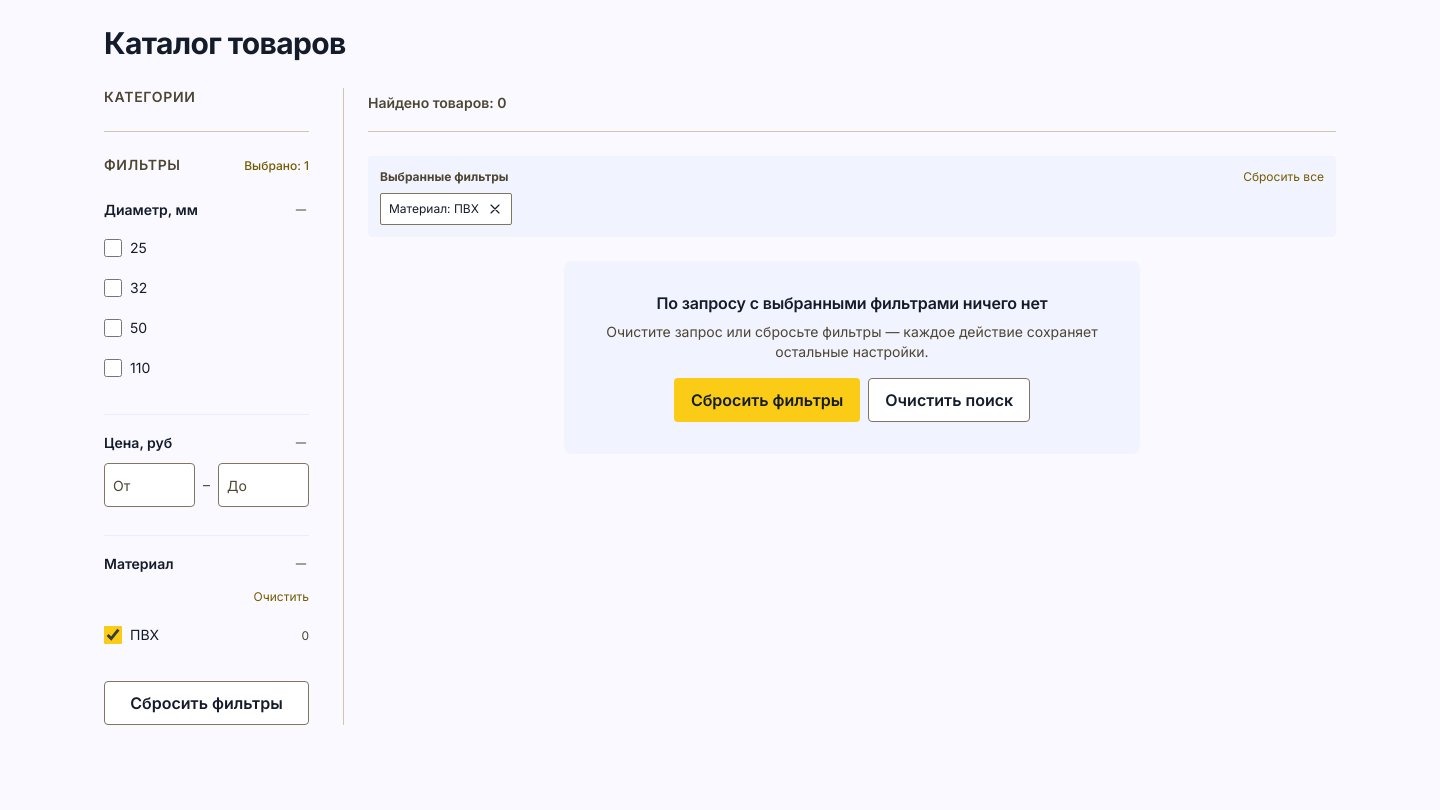
Test case: CatalogPage integration › recovers from a combined empty state without silently clearing both inputs
Expected: the heading "По запросу с выбранными фильтрами ничего нет" is shown, [656,293,1048,313]
Click the button "Сбросить фильтры" below "Выбранные фильтры".
click(767, 400)  # box [674,378,860,422]
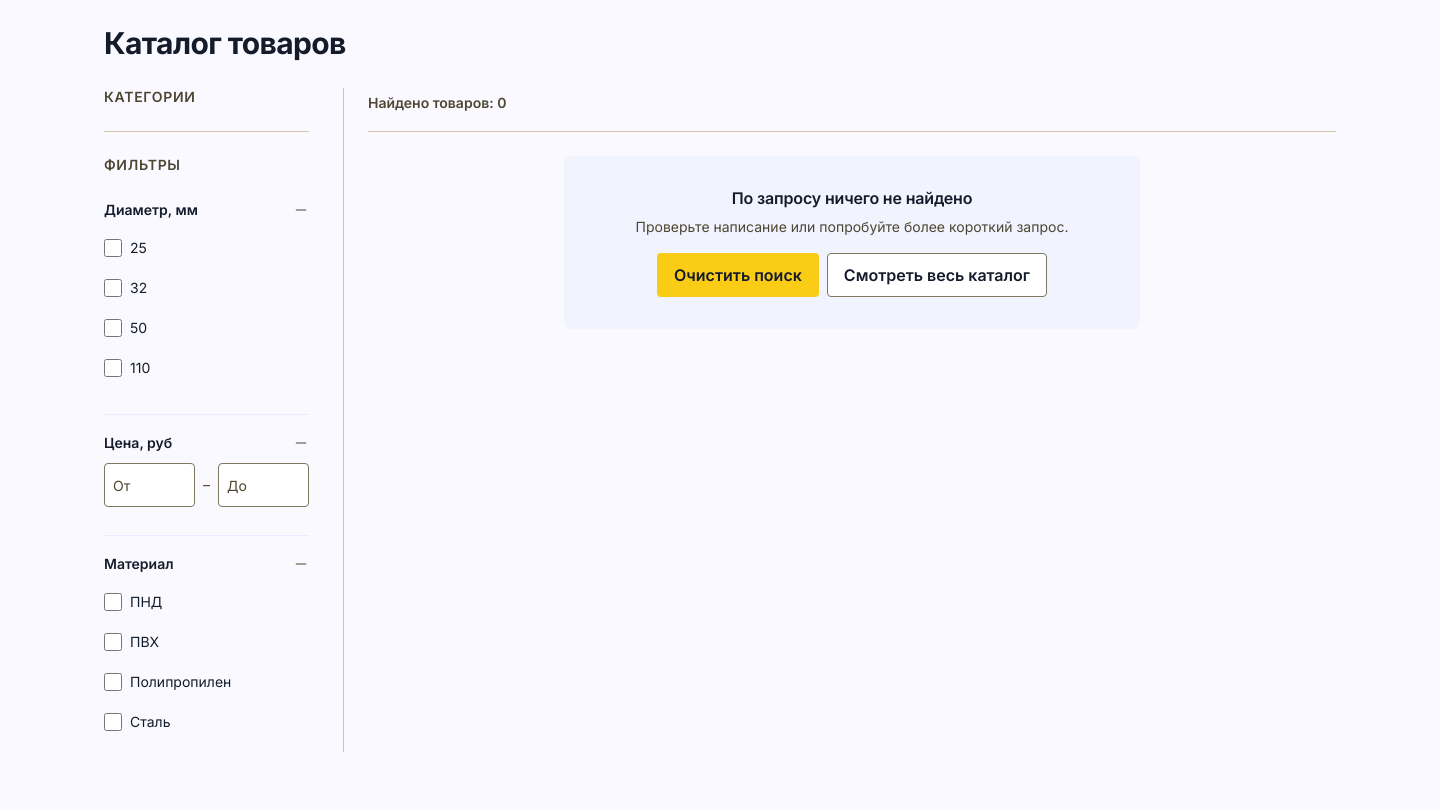
Now the heading "По запросу ничего не найдено" is shown, box [732,188,972,208]
